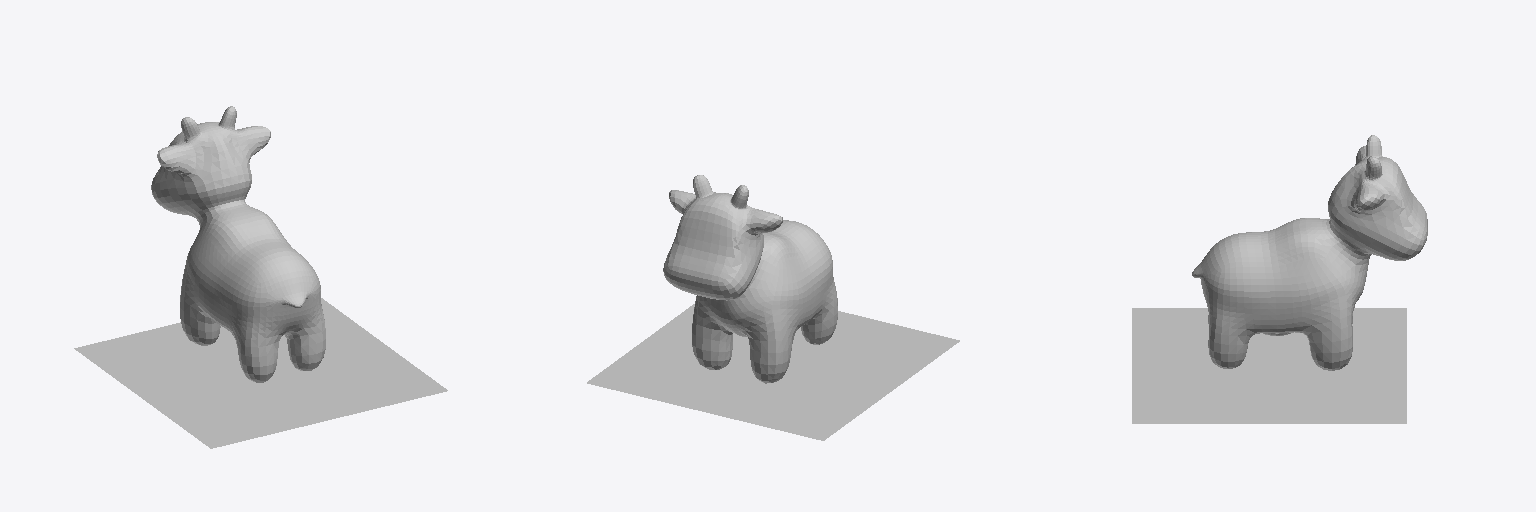
Rendered from _spot_triangulated_good.obj.
The picture shows the model from 3 angles: view 1: azimuth 30°, elevation 25°; view 2: azimuth 150°, elevation 25°; view 3: azimuth 270°, elevation 25°; orthographic projection.
Visible parts, largest first — view 1: default1; view 2: default1; view 3: default1.
Boxes of the visible parts, x1=… form: default1: x1=74, y1=106, x2=447, y2=448; default1: x1=587, y1=175, x2=959, y2=440; default1: x1=1132, y1=135, x2=1427, y2=423.
Bounding box in the file's own units: 2 × 1.76 × 2.16.